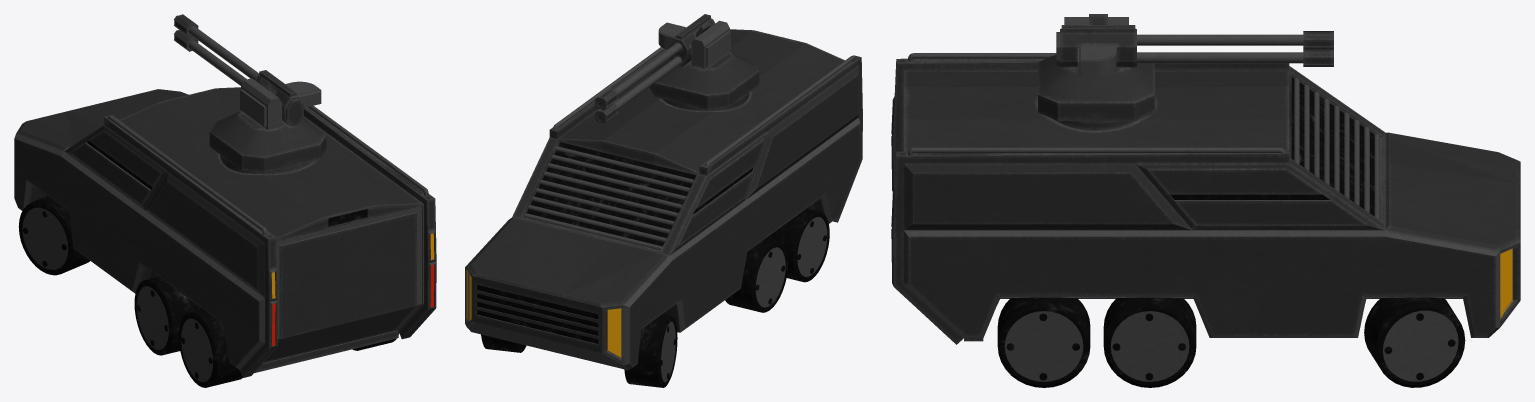
File: apc.fbx
3 renders of one model, left to right at view 1: azimuth 30°, elevation 25°; view 2: azimuth 150°, elevation 25°; view 3: azimuth 270°, elevation 25°, orthographic. The views are drawn at different scales.
Parts seen in each view (by area): view 1: bake; view 2: bake; view 3: bake.
Boxes of the visible parts, <box> form: bake: <box>14,14,436,387</box>; bake: <box>465,14,862,387</box>; bake: <box>891,14,1520,387</box>.
Size of the model in its own units: 289 by 366 by 653.
Materials: 1 (1 with a texture image).
